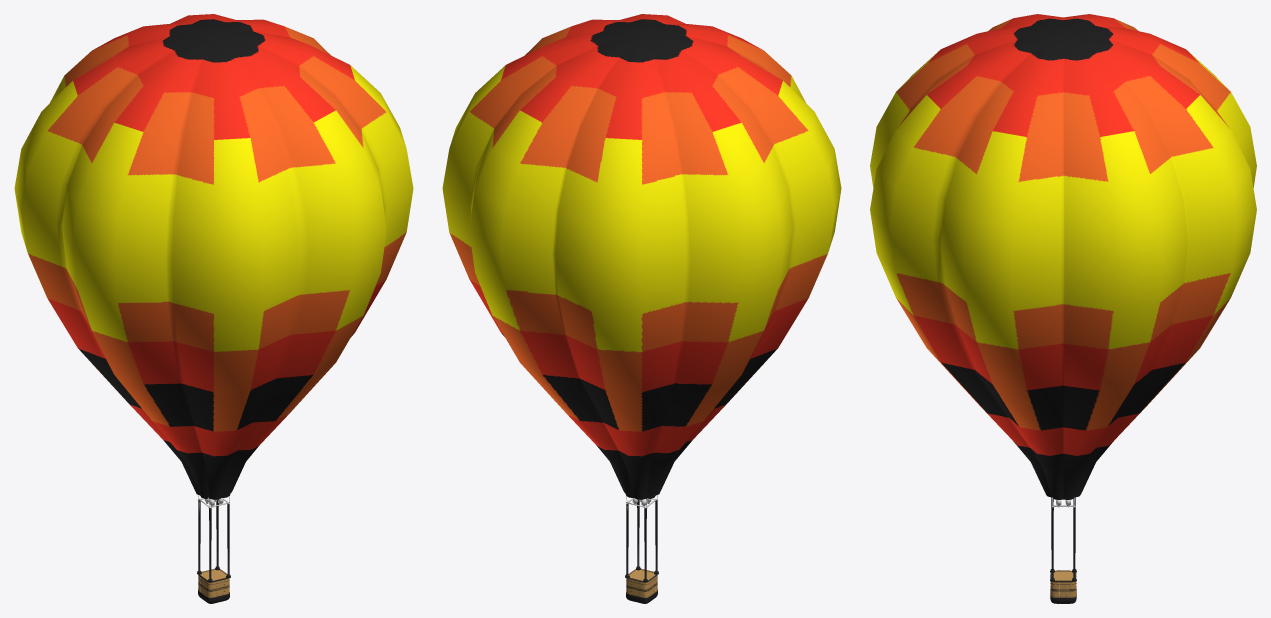
File: Air_Balloon2.fbx
3 views of the same model, side by side, from view 1: azimuth 30°, elevation 25°; view 2: azimuth 150°, elevation 25°; view 3: azimuth 270°, elevation 25° (orthographic).
Visible parts, largest first — view 1: Balloon, HotAirBalloon; view 2: Balloon, HotAirBalloon; view 3: Balloon, HotAirBalloon.
Boxes of the visible parts, bbox=[...] form: Balloon: bbox=[14, 14, 413, 499]; HotAirBalloon: bbox=[197, 495, 230, 603]; Balloon: bbox=[442, 14, 841, 499]; HotAirBalloon: bbox=[625, 495, 658, 603]; Balloon: bbox=[870, 14, 1256, 499]; HotAirBalloon: bbox=[1050, 497, 1076, 603].
Size of the model in its own units: 2242 by 3616 by 2242.
